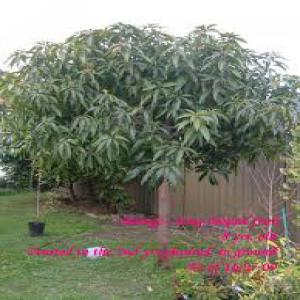Tree: (4, 19, 294, 264)
